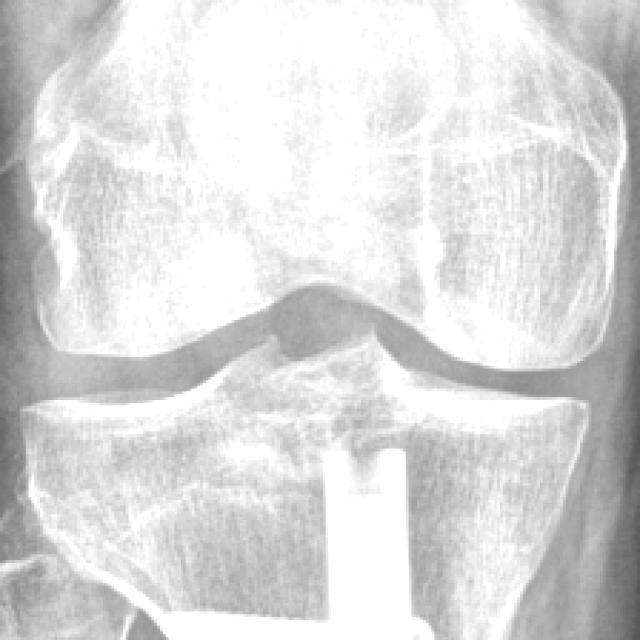femur: (25, 0, 629, 373)
tibia: (19, 334, 591, 640)
